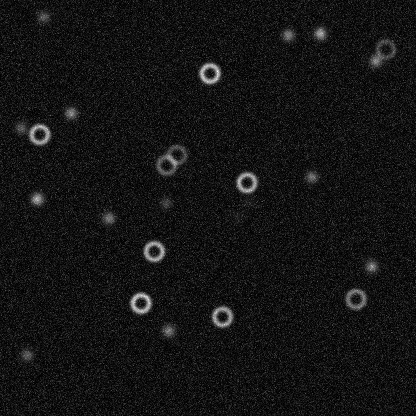Ring: (141, 239, 165, 263), (27, 122, 51, 146), (234, 170, 258, 194), (128, 290, 152, 314), (164, 142, 188, 166), (343, 286, 367, 310), (373, 37, 397, 61), (197, 61, 221, 85), (154, 152, 178, 176), (210, 304, 234, 328)
Spot: (62, 104, 78, 120), (28, 190, 44, 206), (160, 322, 176, 338), (100, 209, 116, 225), (303, 168, 319, 184), (363, 258, 379, 274), (12, 119, 28, 135), (280, 26, 296, 42), (157, 195, 173, 211), (367, 52, 383, 68), (228, 208, 244, 224), (18, 346, 34, 362), (35, 8, 51, 24), (312, 25, 328, 41), (241, 194, 257, 210)
